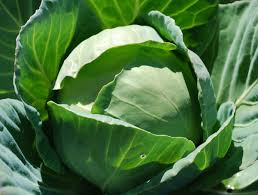cabbage: (46, 19, 215, 188)
